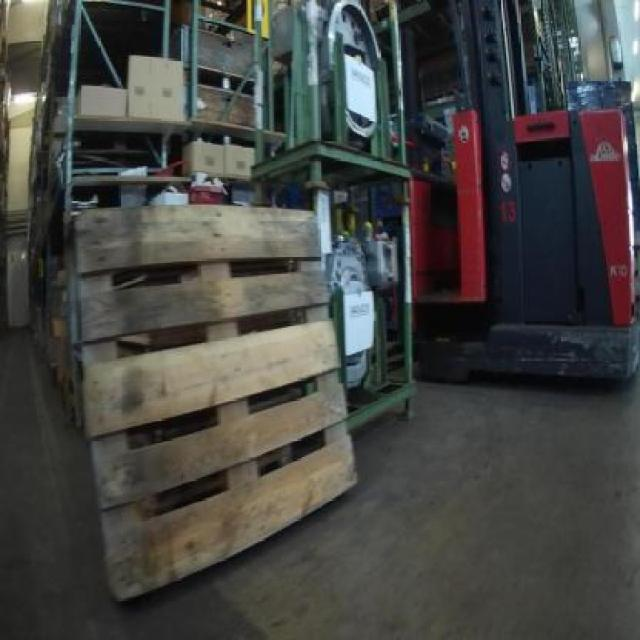pallet: (58, 195, 366, 613)
